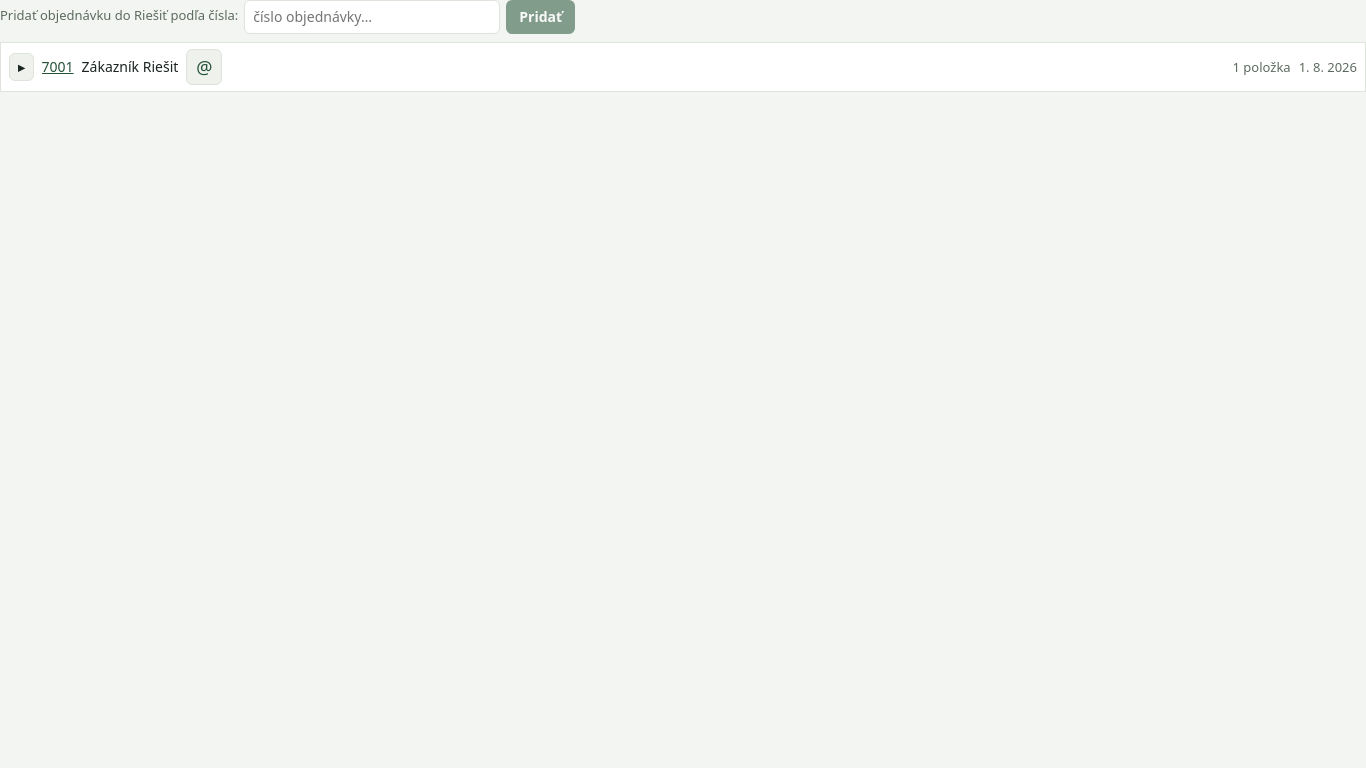
Test: klik @ na kompaktnom riadku Riešiť otvorí okno predvyplnené menom + číslom objednávky
The width and height of the screenshot is (1366, 768).
Click the button with test id "customer-contact-open-7001".
click(204, 67)  # box x1=186 y1=49 x2=222 y2=85
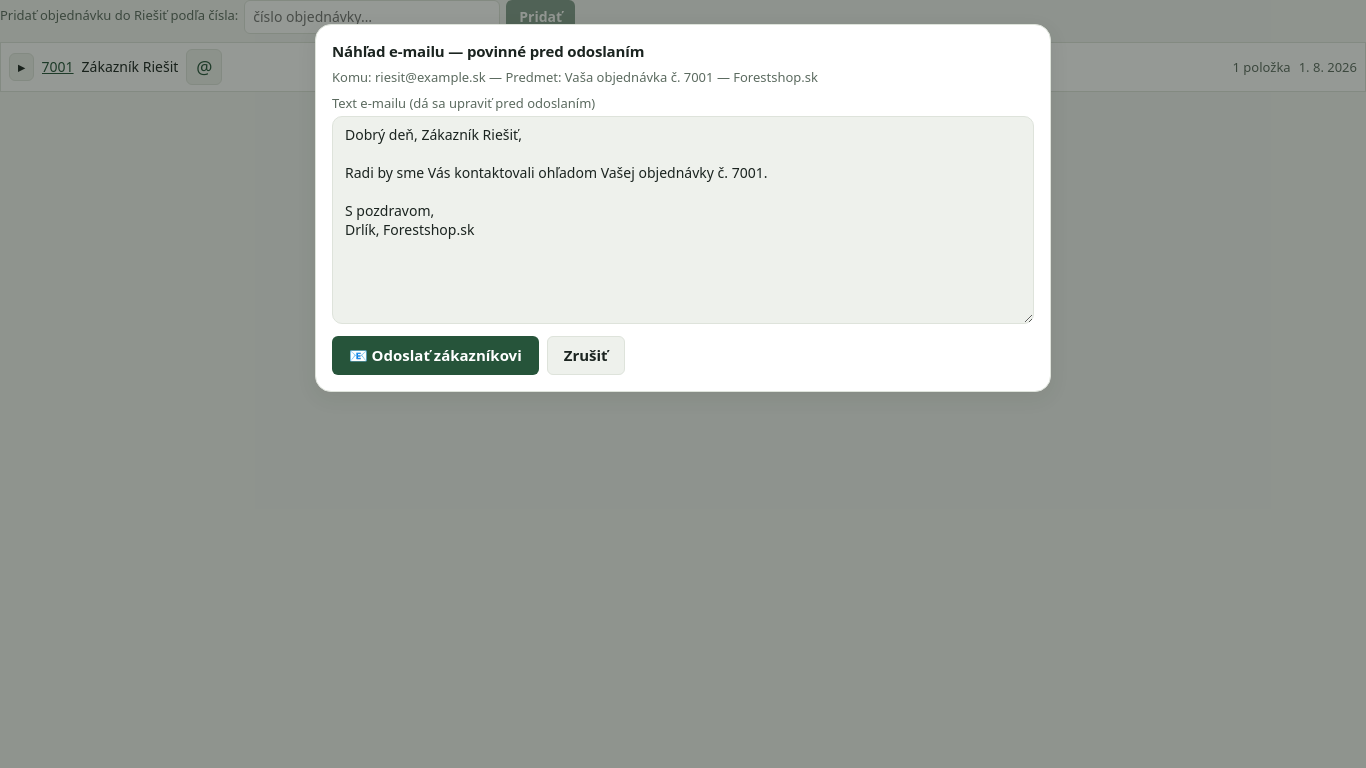
Now the dialog with test id "customer-contact-preview" shows "riesit@example.sk", box x1=375 y1=68 x2=486 y2=86
Click the button with test id "customer-contact-preview-confirm".
click(435, 356)  # box x1=332 y1=336 x2=539 y2=375
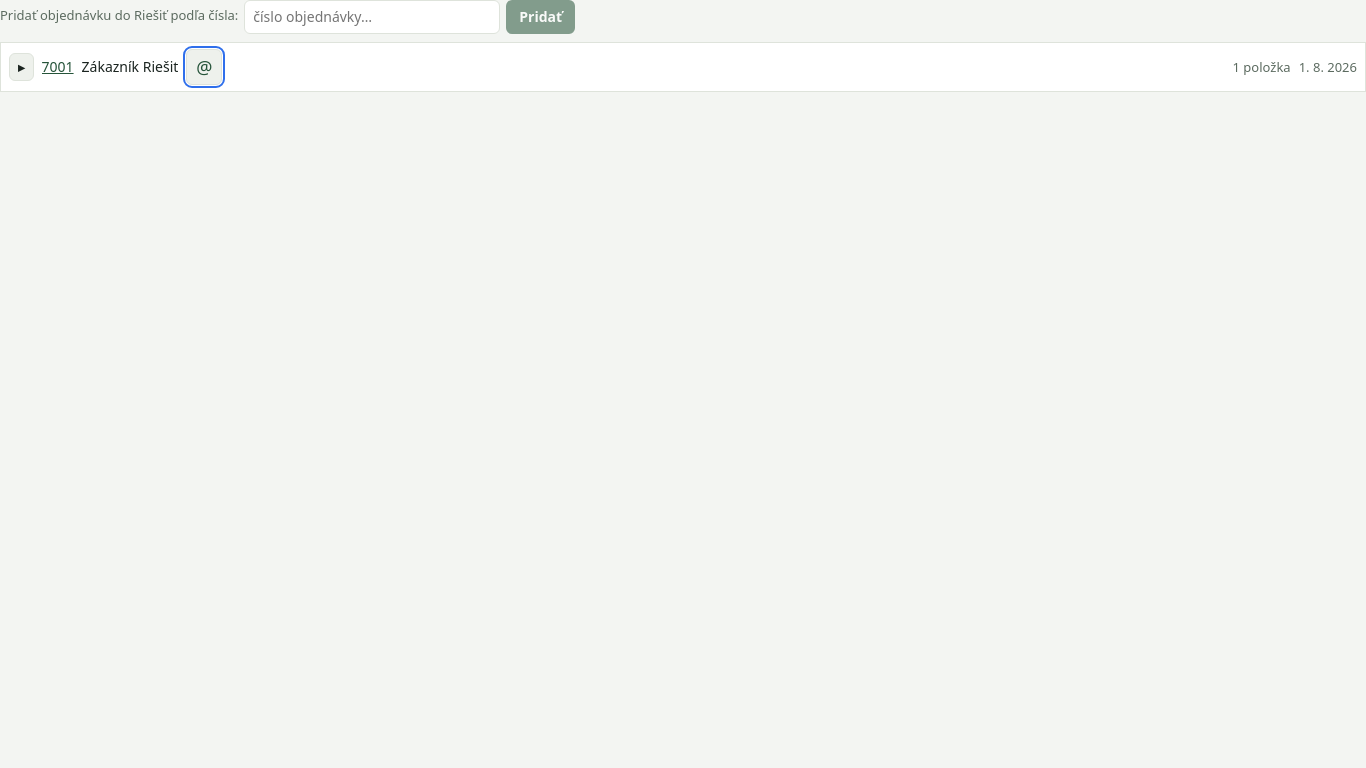
Now the dialog with test id "customer-contact-preview" is gone
